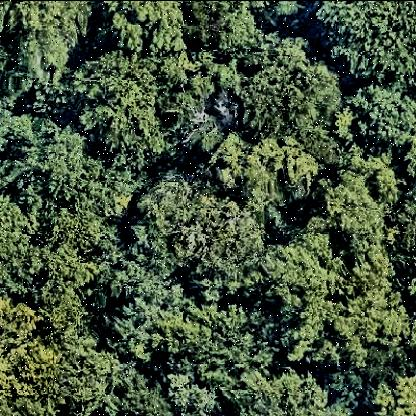tree-top: (129, 171, 264, 302), (238, 33, 344, 161), (26, 117, 133, 226), (269, 229, 361, 353), (72, 51, 176, 157), (155, 299, 275, 389), (151, 47, 245, 152), (209, 132, 326, 208), (322, 2, 416, 92), (324, 257, 410, 352), (1, 292, 60, 416), (5, 2, 93, 85), (221, 362, 333, 416), (330, 155, 398, 243), (82, 218, 142, 312), (92, 1, 192, 57), (58, 327, 120, 416), (1, 190, 52, 298), (343, 85, 416, 158), (95, 294, 163, 366), (42, 240, 95, 331), (180, 1, 272, 53), (334, 343, 406, 401), (116, 367, 173, 416), (163, 378, 227, 416), (374, 371, 416, 416)
